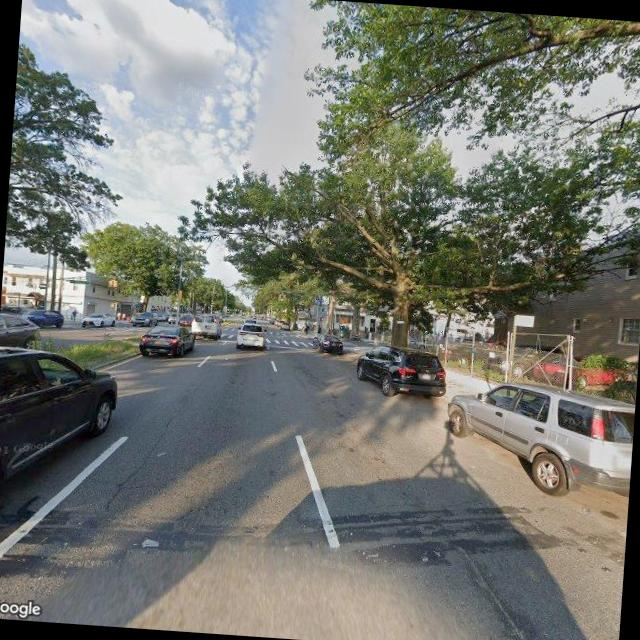crack: (101, 406, 178, 520)
